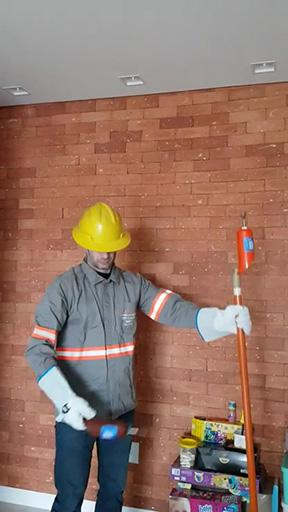Detector_Tensao_Contato: (236, 210, 256, 277)
Vara_Manobra: (229, 273, 259, 512)
